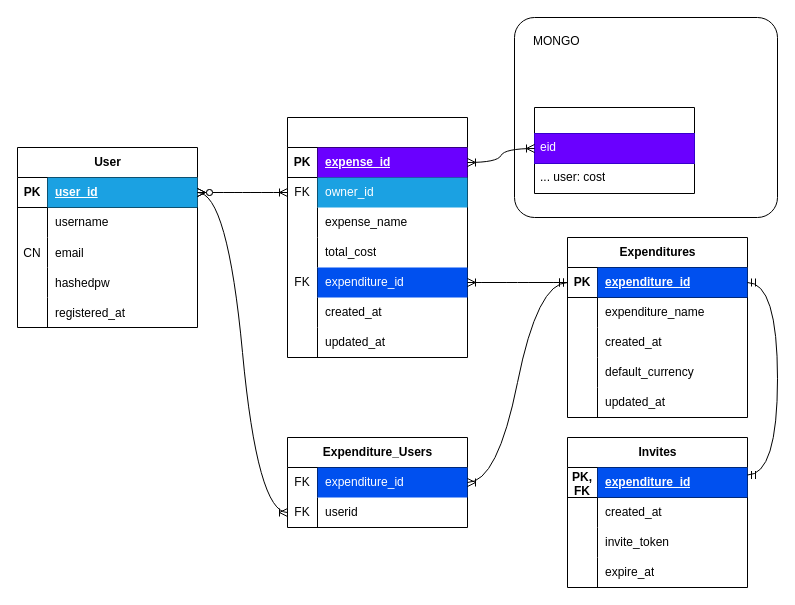
This 795x605 diagram has some shape labels left out. Each missing label, with the box of its shape:
expense_split: (534, 106, 694, 194)
Expenses: (286, 116, 468, 358)
